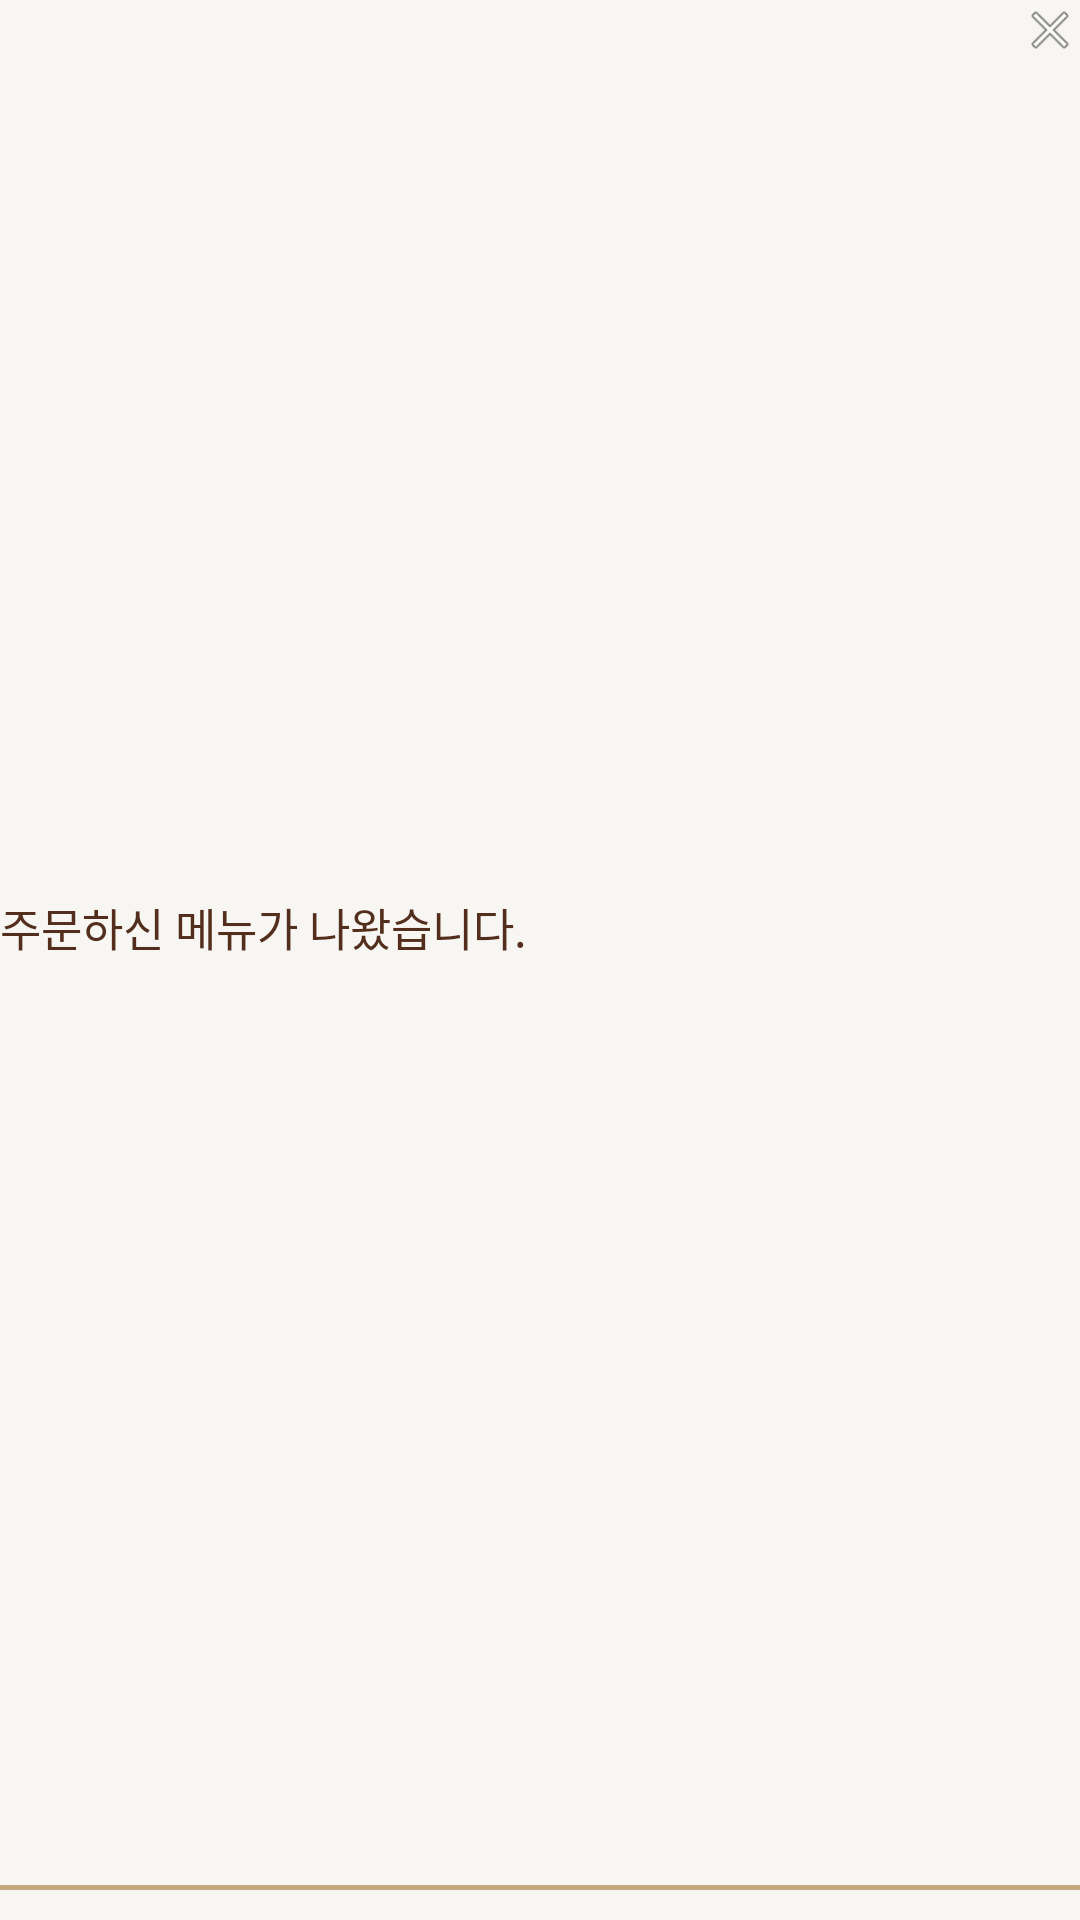

Named icons in this screenshot (1080*1920) and their centers, (x=x, y=y):
close clear cancel: (x=1050, y=30)
